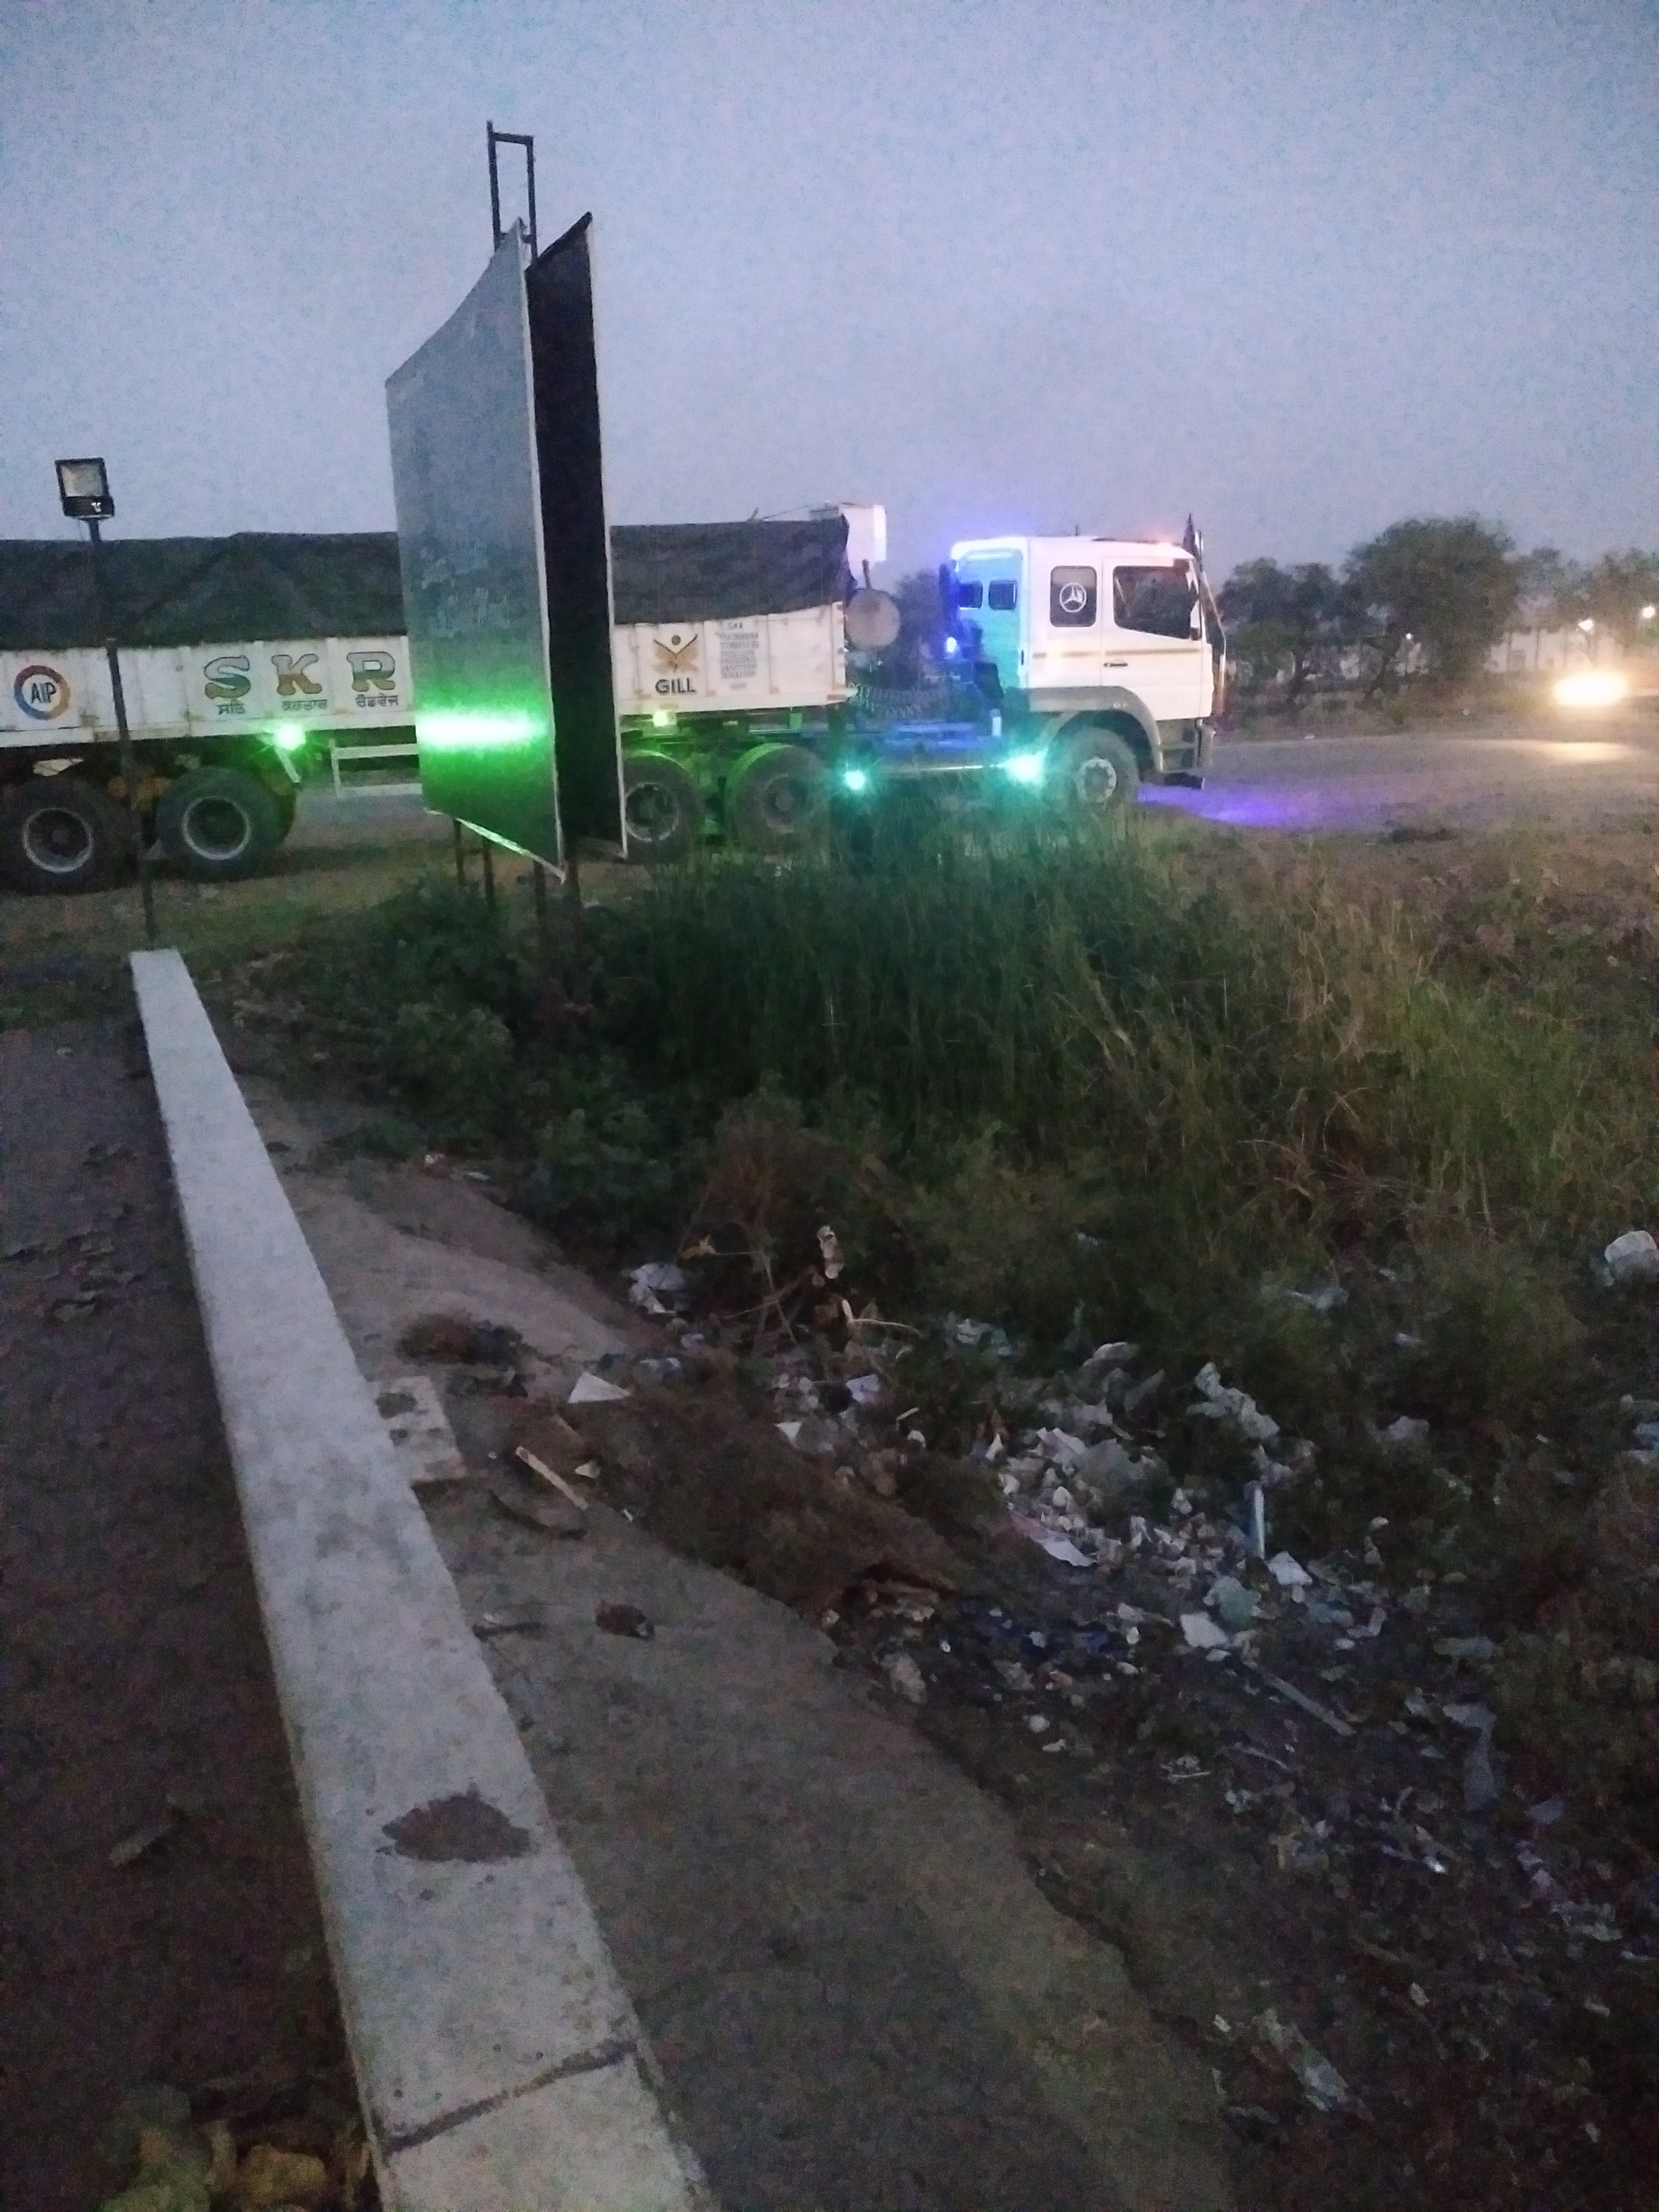truck: (0, 512, 1230, 902)
